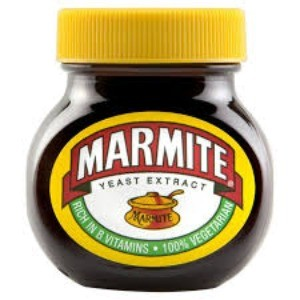yeast spread_brain food: (20, 86, 270, 240)
